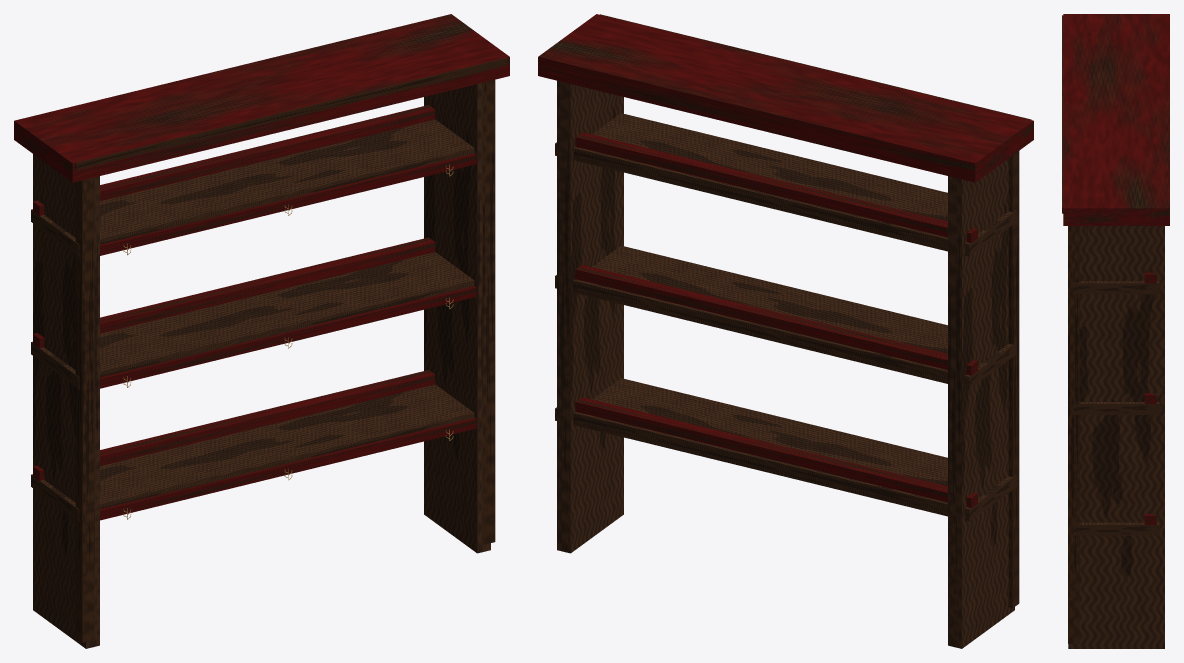
File: tablet_rack.glb
3 views of the same model, side by side, from view 1: azimuth 30°, elevation 25°; view 2: azimuth 150°, elevation 25°; view 3: azimuth 270°, elevation 25° (orthographic). The views are drawn at different scales.
Parts seen in each view (by area): view 1: Top, Side_-85, Side_85, Art_WarmWood, Shelf1, Shelf2, Shelf0, Art_BurntLacquer, Ridge0, Ridge1, Ridge2; view 2: Top, Side_-85, Side_85, Shelf1, Shelf0, Shelf2, Ridge1, Ridge0, Ridge2, Art_WarmWood; view 3: Side_85, Top, Art_WarmWood, Shelf2, Shelf0, Shelf1.
Boxes of the visible parts, left/top/right/bottom form: Top: left=14, top=14, right=509, bottom=182; Side_-85: left=33, top=154, right=99, bottom=648; Side_85: left=424, top=83, right=490, bottom=553; Art_WarmWood: left=75, top=57, right=507, bottom=642; Shelf1: left=31, top=252, right=474, bottom=388; Shelf2: left=31, top=119, right=474, bottom=256; Shelf0: left=31, top=384, right=474, bottom=521; Art_BurntLacquer: left=100, top=153, right=476, bottom=520; Ridge0: left=33, top=370, right=435, bottom=480; Ridge1: left=33, top=237, right=435, bottom=348; Ridge2: left=33, top=105, right=435, bottom=215; Top: left=538, top=14, right=1033, bottom=182; Side_-85: left=948, top=158, right=1014, bottom=648; Side_85: left=557, top=80, right=623, bottom=553; Shelf1: left=555, top=245, right=1016, bottom=388; Shelf0: left=555, top=378, right=1016, bottom=521; Shelf2: left=555, top=113, right=1016, bottom=256; Ridge1: left=575, top=264, right=977, bottom=375; Ridge0: left=575, top=397, right=977, bottom=507; Ridge2: left=575, top=132, right=977, bottom=242; Art_WarmWood: left=600, top=14, right=1031, bottom=608; Side_85: left=1068, top=226, right=1164, bottom=648; Top: left=1063, top=14, right=1169, bottom=225; Art_WarmWood: left=1062, top=15, right=1079, bottom=643; Shelf2: left=1073, top=281, right=1160, bottom=294; Shelf0: left=1073, top=522, right=1160, bottom=535; Shelf1: left=1073, top=402, right=1160, bottom=414.
Size of what is drawn, in the model's own units: 1.9 by 2.04 by 0.4455.
5 materials, 4 textured.
